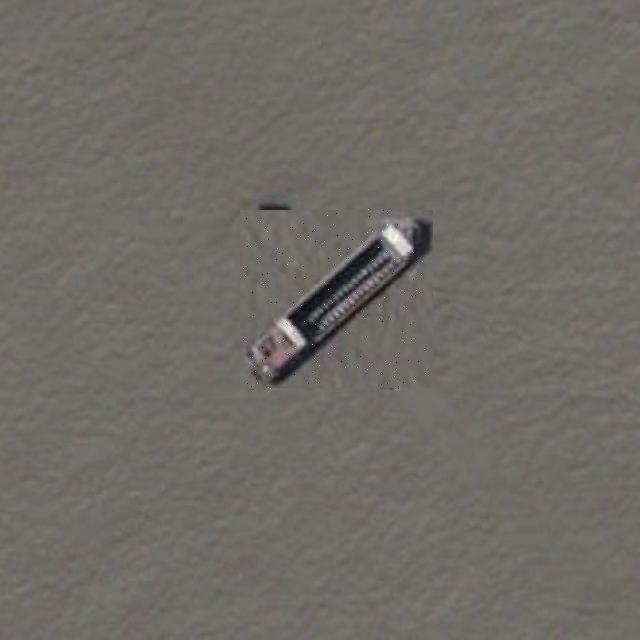boat: (243, 206, 429, 392)
